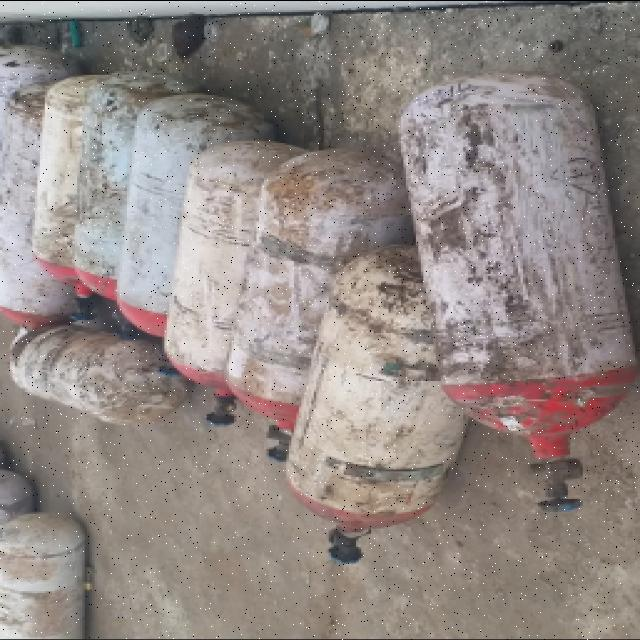cylinder: (398, 70, 638, 512), (286, 243, 465, 564), (228, 147, 406, 461)
